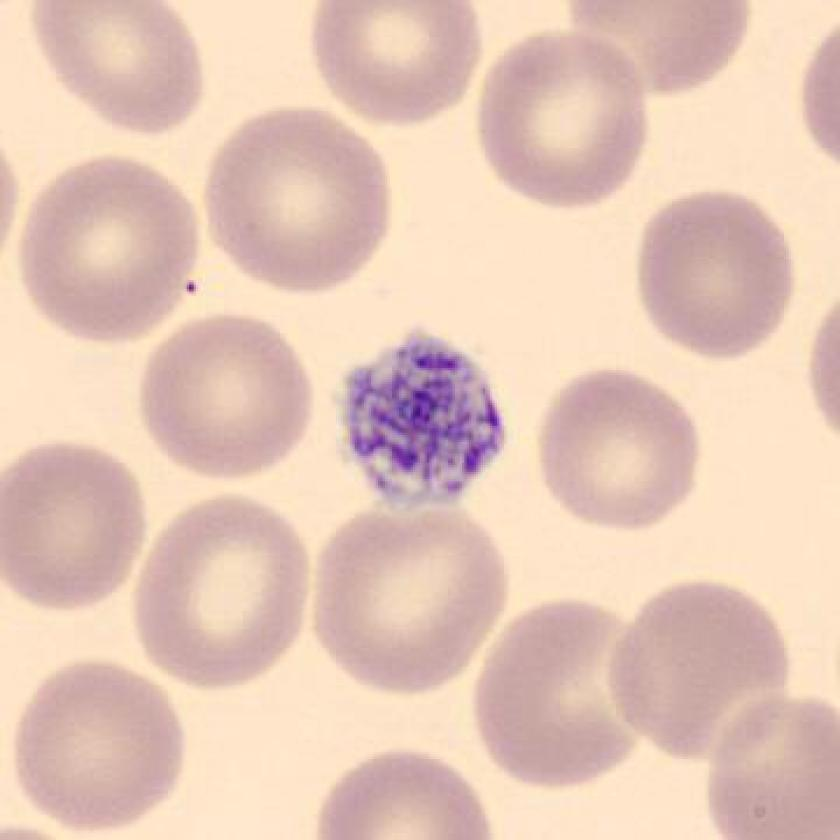platelets: (330, 316, 521, 524)
